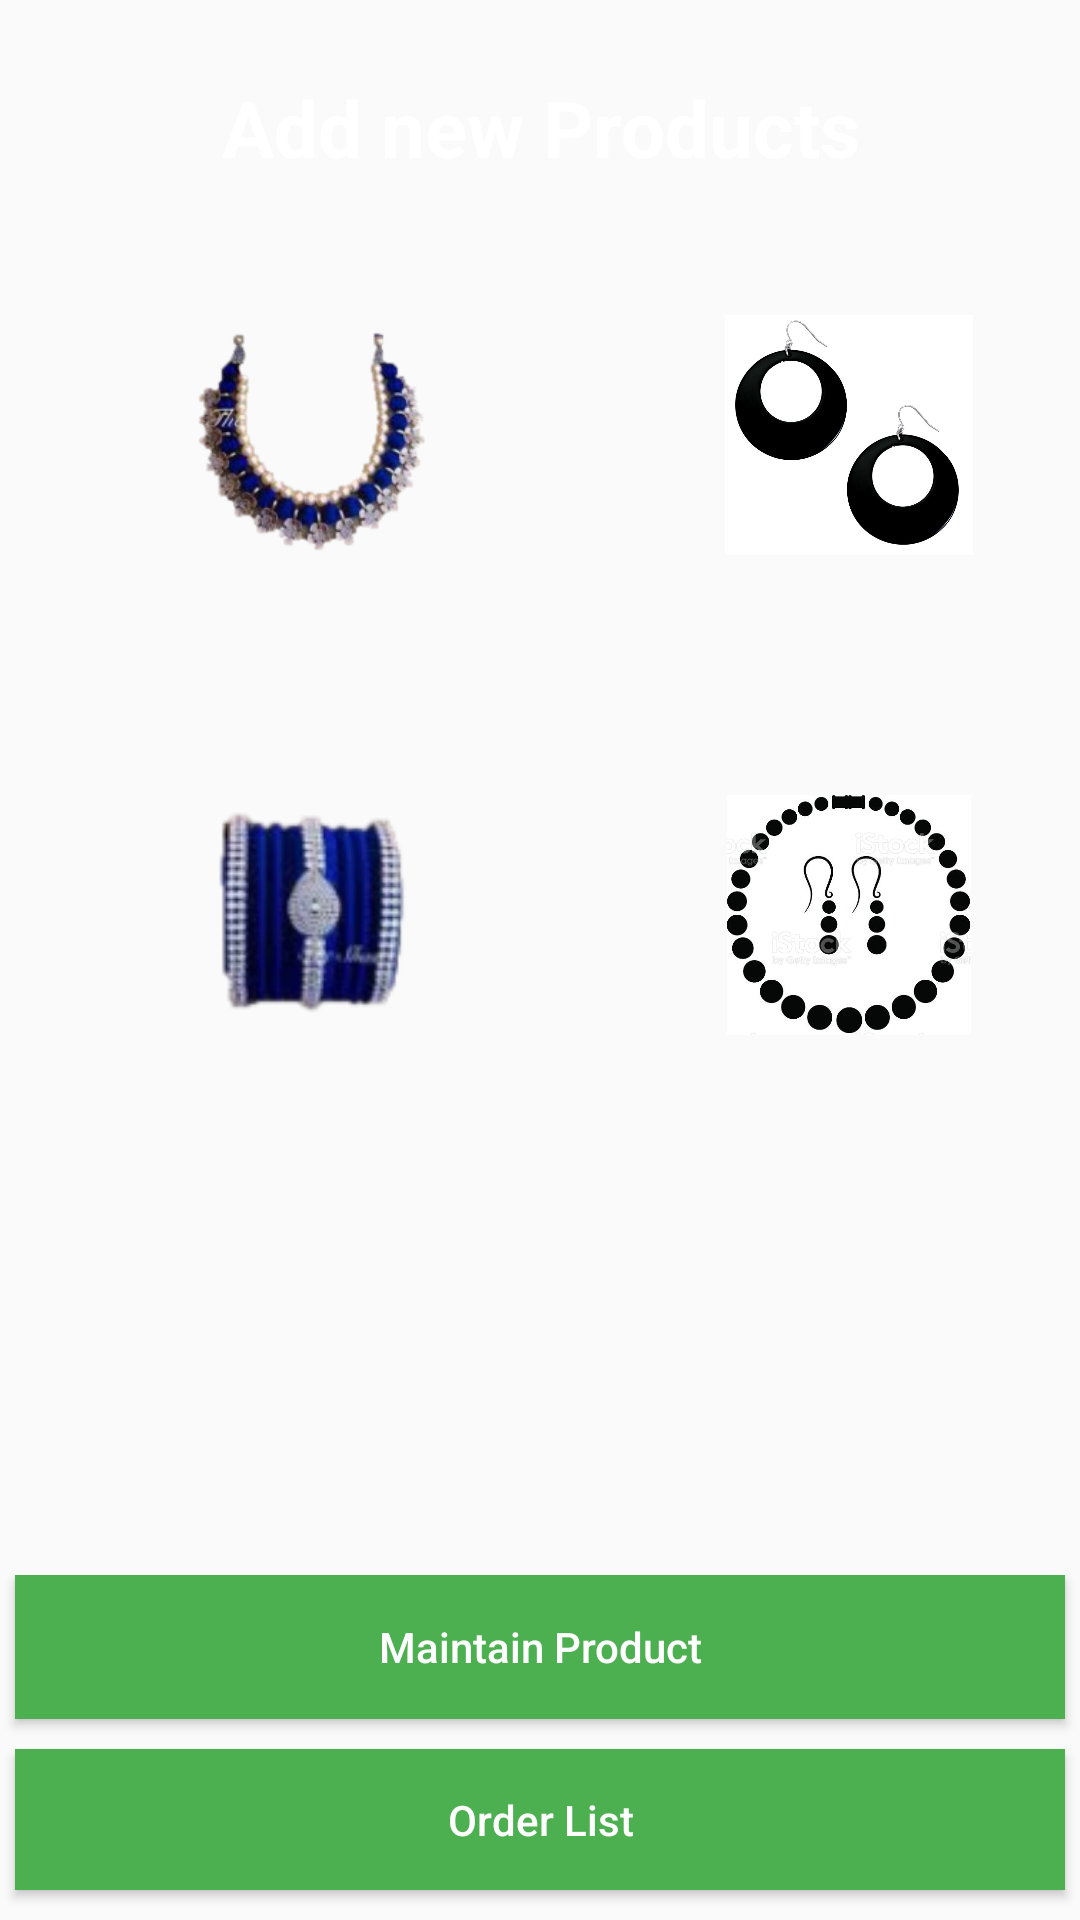

Screen size 1080 × 1920. Icon name, then its center in pixels as (x=x, y=y):
bangles: (x=312, y=912)
earings: (x=847, y=432)
jewellery set: (x=848, y=914)
necklace: (x=311, y=441)
